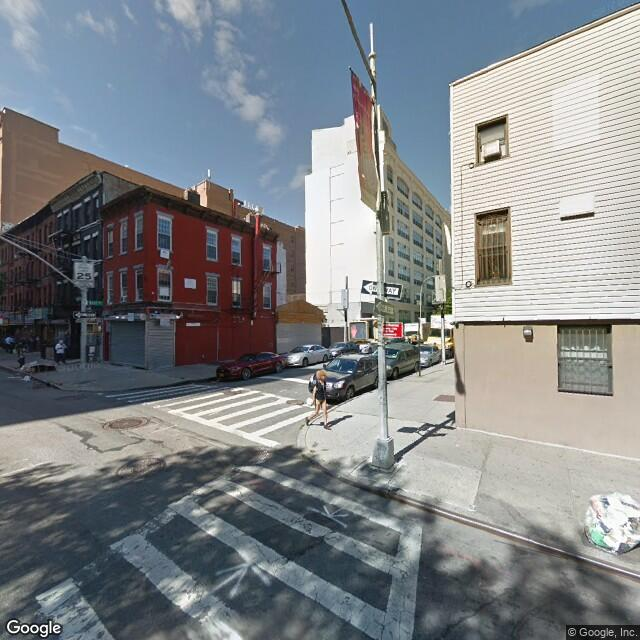litter: (571, 484, 640, 555)
